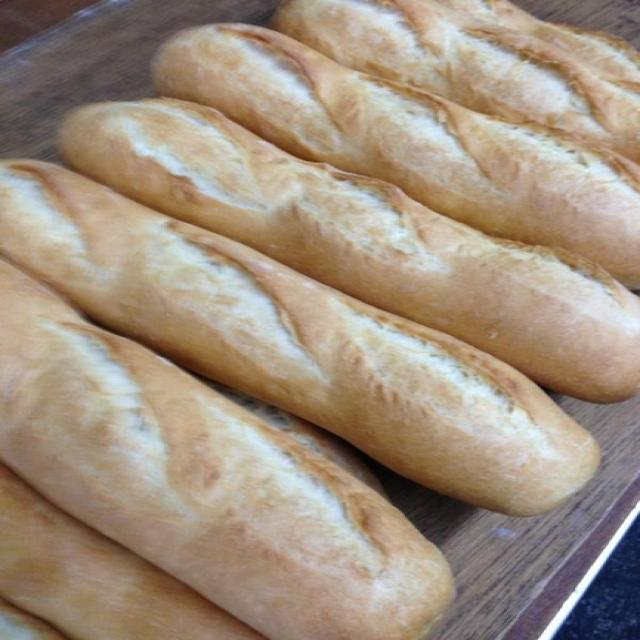面包点心: (2, 0, 631, 626)
